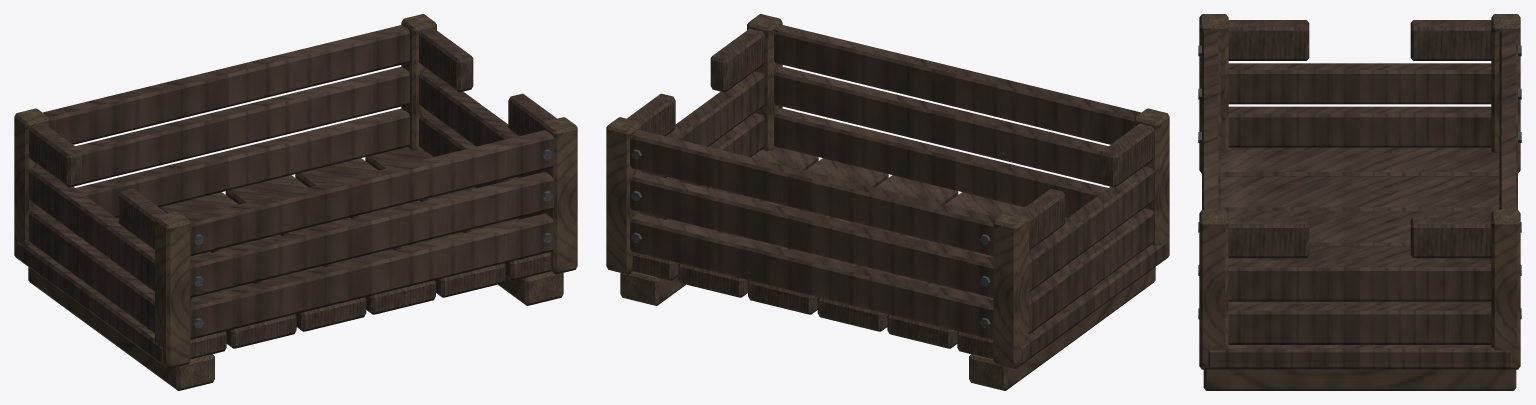
The model's file is cajon_pescado.glb.
3 renders of one model, left to right at view 1: azimuth 30°, elevation 25°; view 2: azimuth 150°, elevation 25°; view 3: azimuth 270°, elevation 25°, orthographic. The views are drawn at different scales.
Parts seen in each view (by area): view 1: cajon_pescado; view 2: cajon_pescado; view 3: cajon_pescado.
Part boxes in pixels (box(x1,y1,x2,y2)): cajon_pescado: box(14, 14, 577, 390); cajon_pescado: box(606, 14, 1169, 390); cajon_pescado: box(1198, 14, 1521, 390).
Size of the model in its own units: 0.902 by 0.355 by 0.5889.
Materials: 1 (1 with a texture image).
